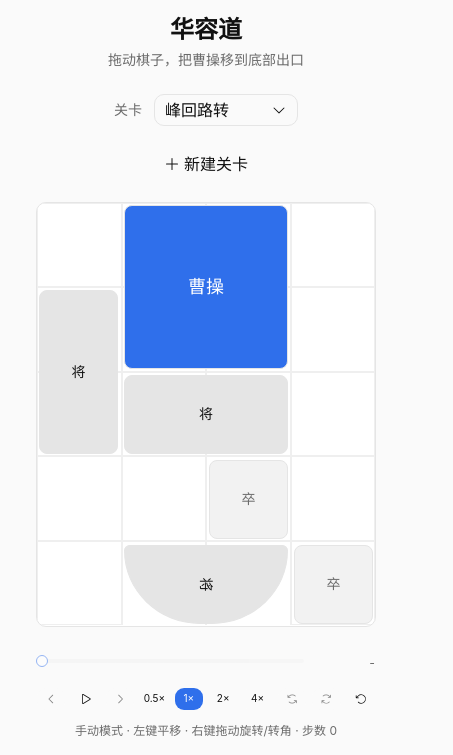
Test: 半圆块交互 › 听筒任意横向位置（x=125）都可开始右键转角
Click the dropdown named "选择关卡" at (226, 110), box top-left (154, 94), bottom-right (298, 126)
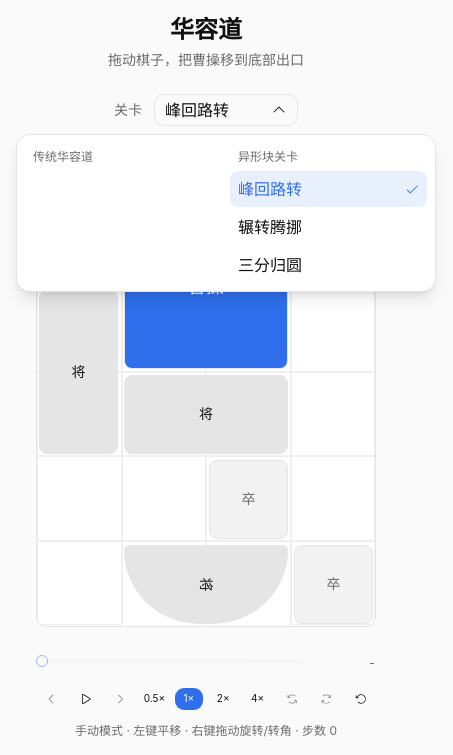
Click the option "辗转腾挪" at (328, 226), box top-left (230, 208), bottom-right (427, 244)
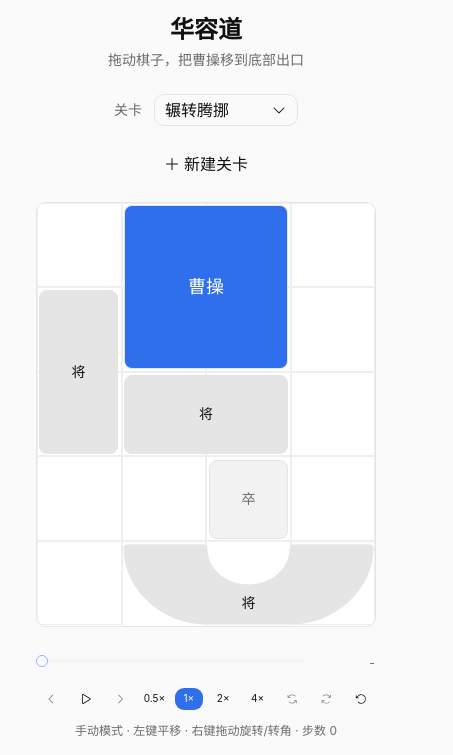
Press the mouse on the element named "电话听筒块" at (248, 584), box top-left (121, 542), bottom-right (376, 626)
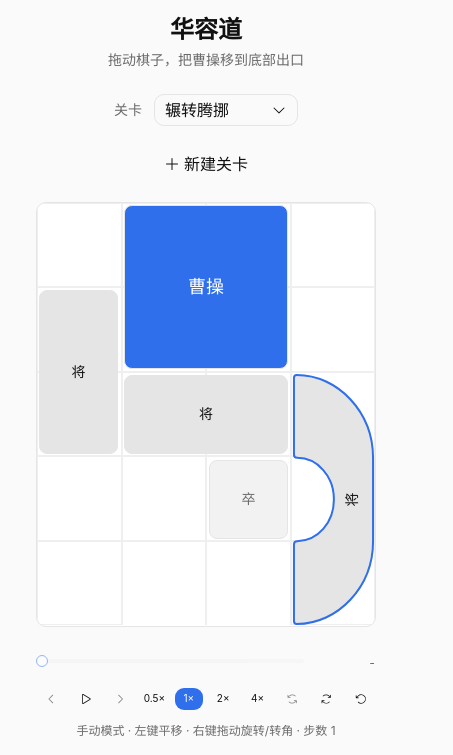
Result: the text "手动模式 · 左键平移 · 右键拖动旋转/转角 · 步数 1" is shown at top-left (76, 722), bottom-right (336, 738)
